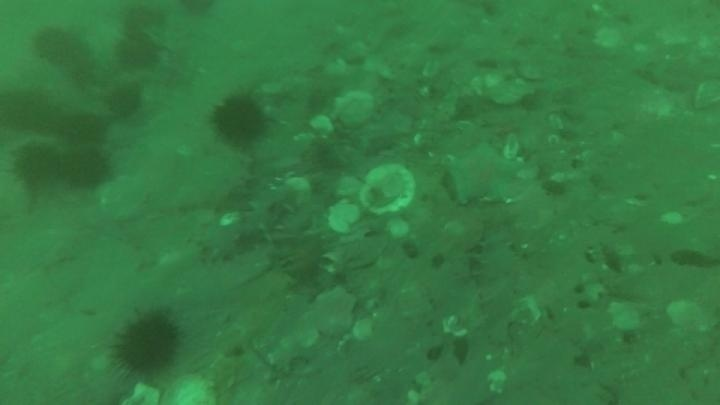echinus: (110, 309, 183, 379), (31, 24, 96, 79), (209, 91, 270, 148), (1, 84, 57, 135), (12, 141, 62, 190), (59, 145, 112, 191), (114, 33, 161, 72), (59, 111, 109, 147), (119, 3, 170, 35), (104, 83, 144, 121)
holothurian: (197, 178, 307, 263), (470, 226, 521, 341)
scallop: (307, 287, 359, 339), (96, 174, 150, 223), (163, 371, 218, 405), (664, 298, 710, 334), (605, 299, 646, 335)
starfish: (443, 140, 527, 208)
